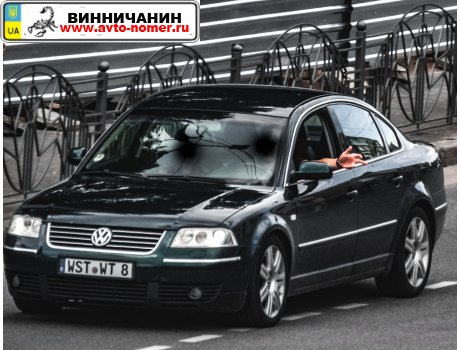License Plates: (71, 259, 125, 274)
